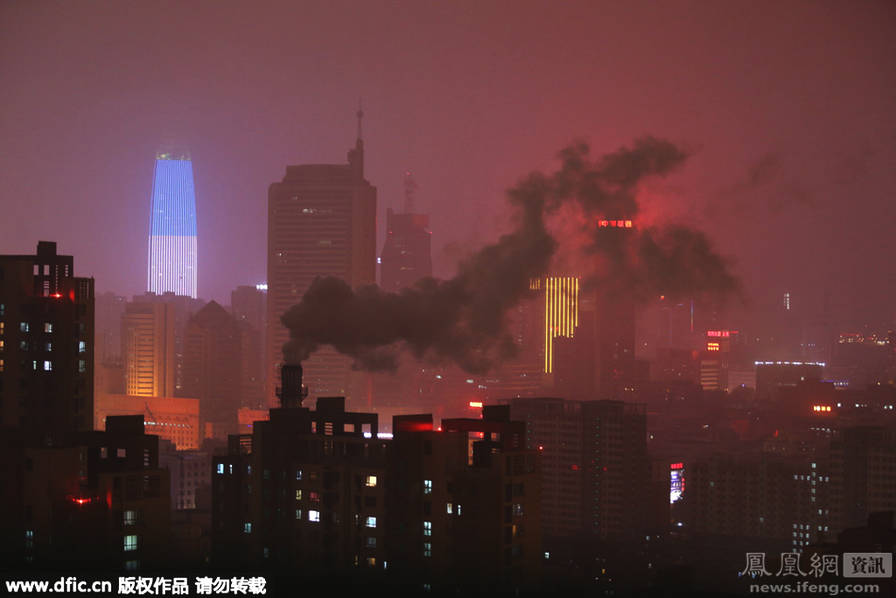dust: (266, 264, 518, 378)
